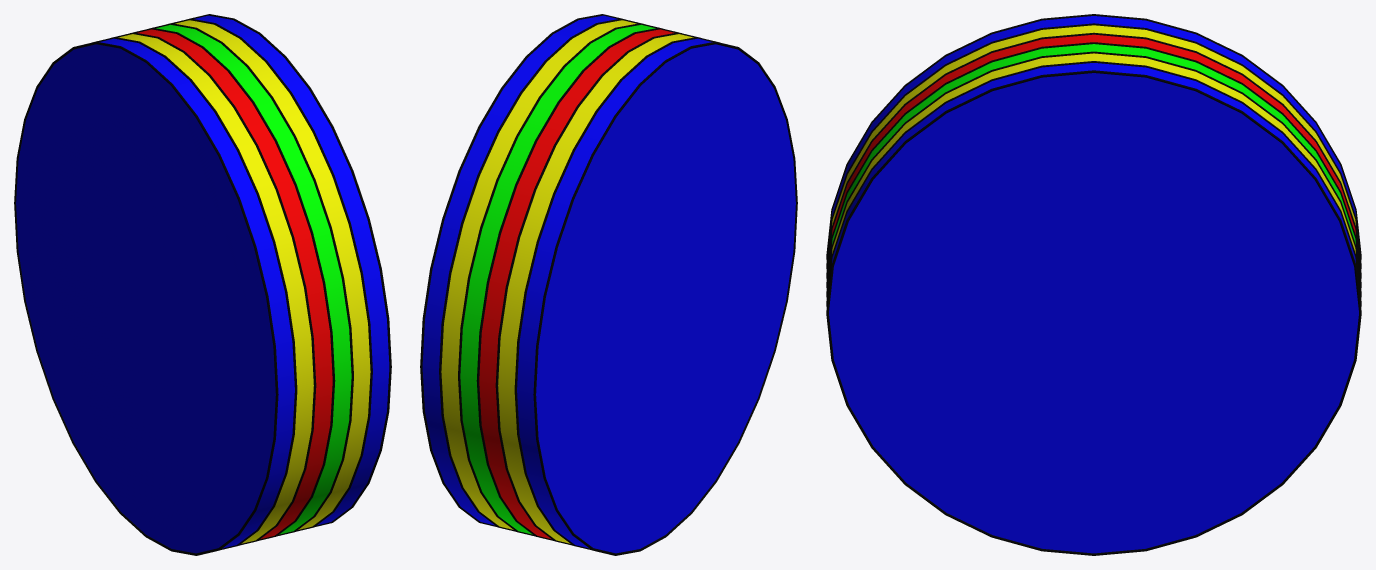
Rendered from roll.FBX.
3 renders of one model, left to right at view 1: azimuth 30°, elevation 25°; view 2: azimuth 150°, elevation 25°; view 3: azimuth 270°, elevation 25°, orthographic.
Visible parts, largest first — view 1: Cylinder001; view 2: Cylinder001; view 3: Cylinder001.
Part boxes in pixels (<box>): Cylinder001: <box>14,14,391,555</box>; Cylinder001: <box>420,14,797,555</box>; Cylinder001: <box>826,14,1361,555</box>.
Bounding box in the file's own units: 51 × 201 × 201.
